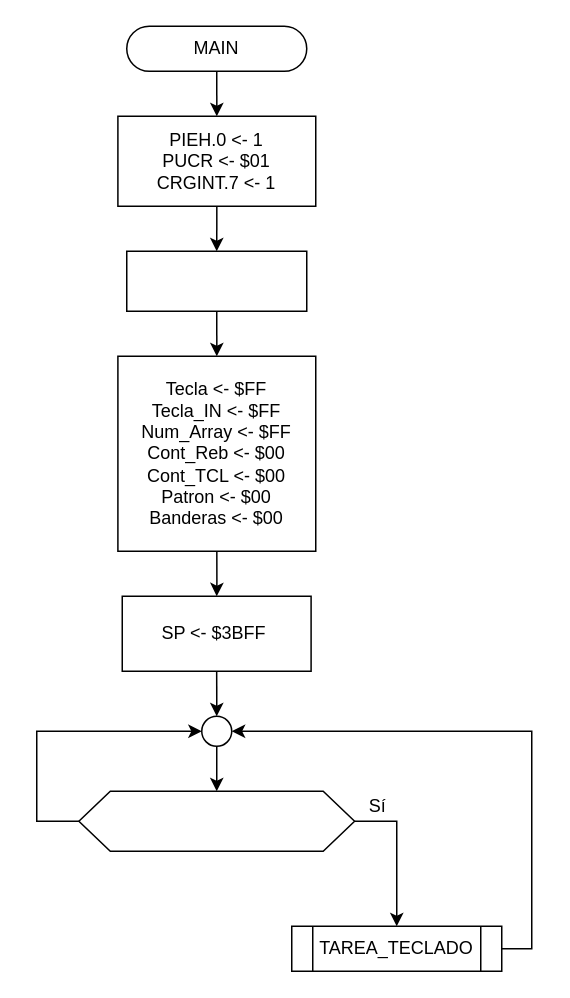
Image size: 570x998. Some labels were removed from this diagram. Here are the shapes that lost their labels. From the top down, the centre of each, then its label:
the point at 216,280: RTICTL<- $4A
the point at 216,820: NUM_ARRAY = $FF
